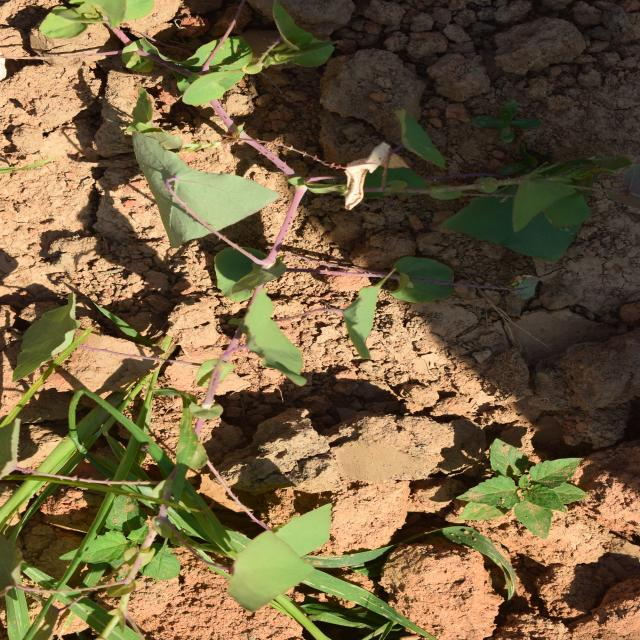Asiatic_Smartweed: (393, 111, 524, 292), (385, 441, 503, 619), (32, 206, 146, 336)
